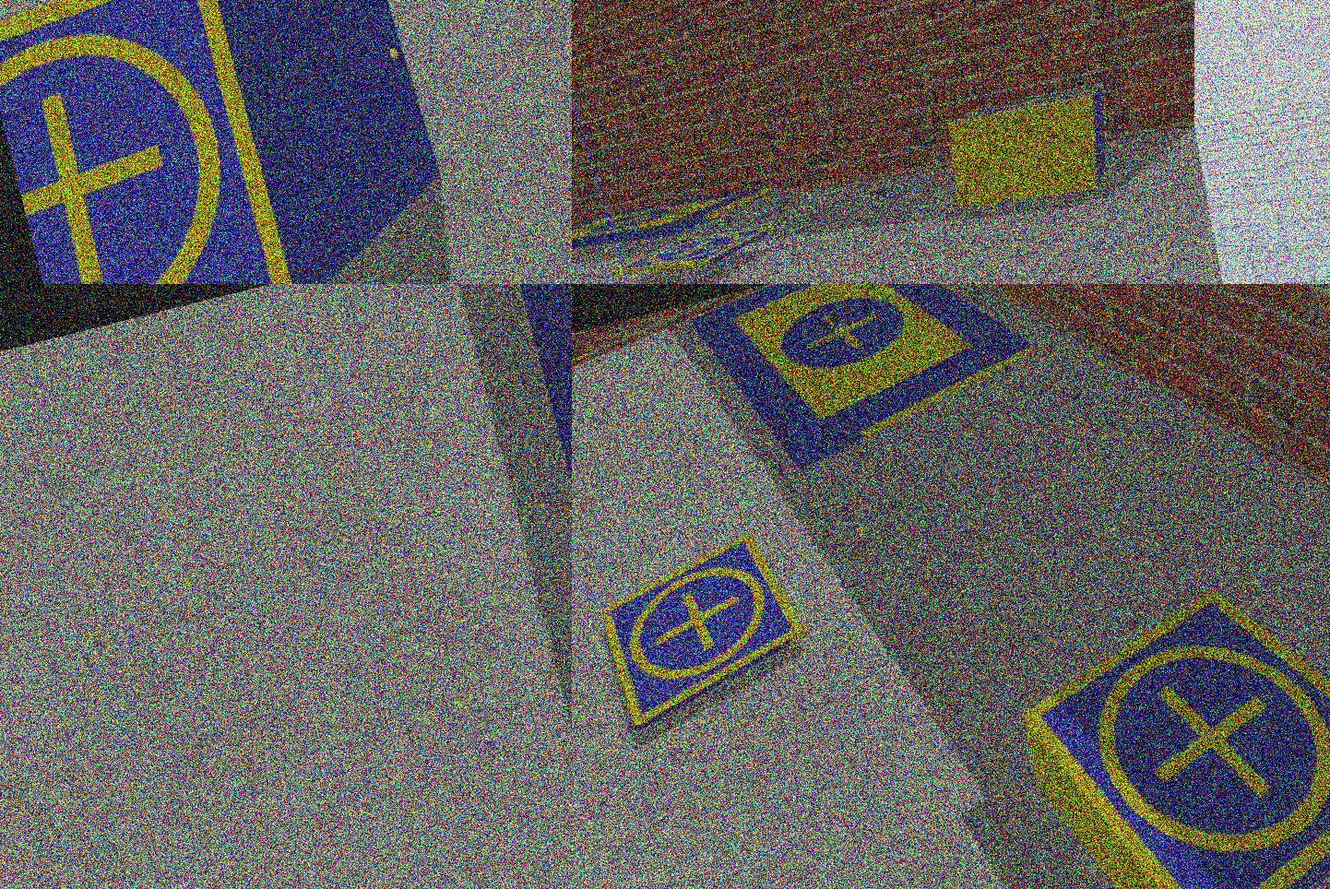large_base: (684, 284, 1051, 483), (573, 168, 783, 282)
small_base: (1003, 542, 1330, 889), (1, 1, 311, 284), (585, 531, 825, 738), (610, 214, 779, 284), (944, 73, 1111, 141)
